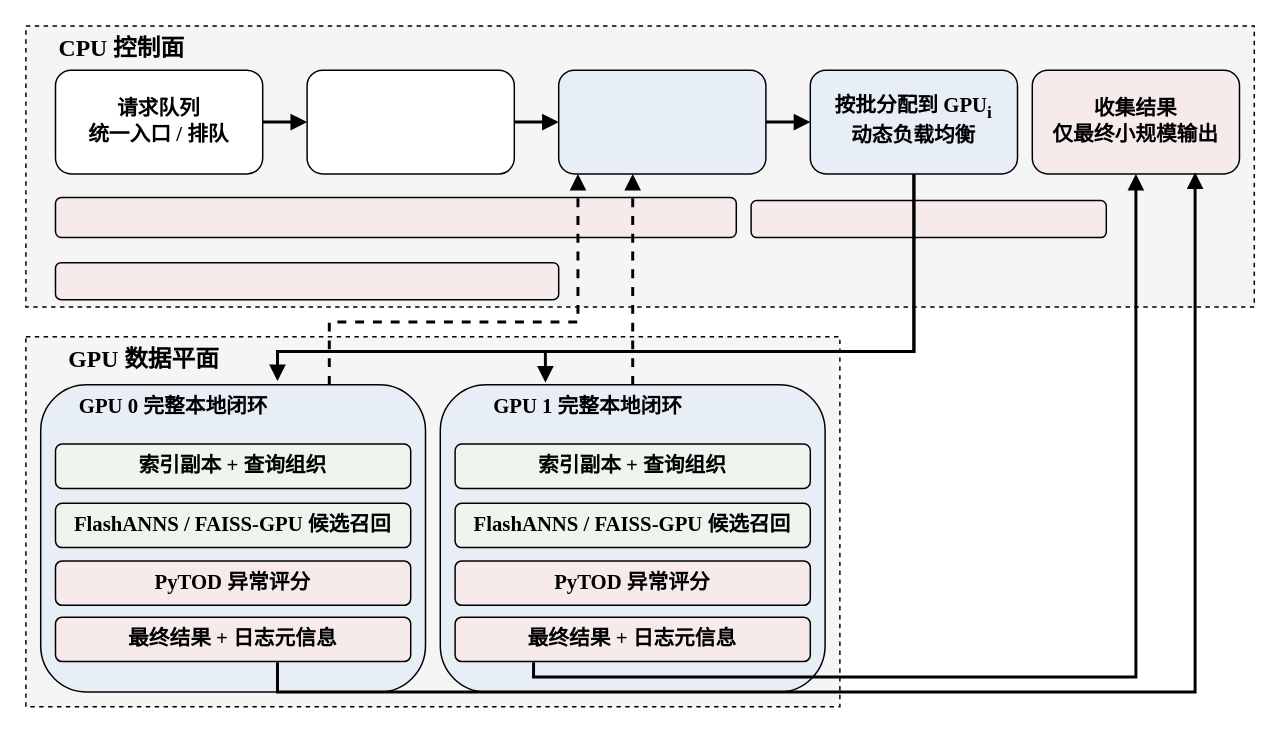
Image size: 1280x733. Some labels were removed from this diagram. Here are the shapes that lost their labels. From the top down, the centre of each, then its label:
[410,121]: 形成微批 bounded batching
[661,121]: GPU 负载监控 利用率 / 队列长度 / 显存余量
[395,217]: CPU 仅负责排队、微批形成、负载监控、任务分发与最终小规模结果汇总
[928,218]: 回收内容：异常分数 / Top-k / 必要日志
[306,280]: 候选集合与评分中间张量始终留在 GPU，不回 CPU
